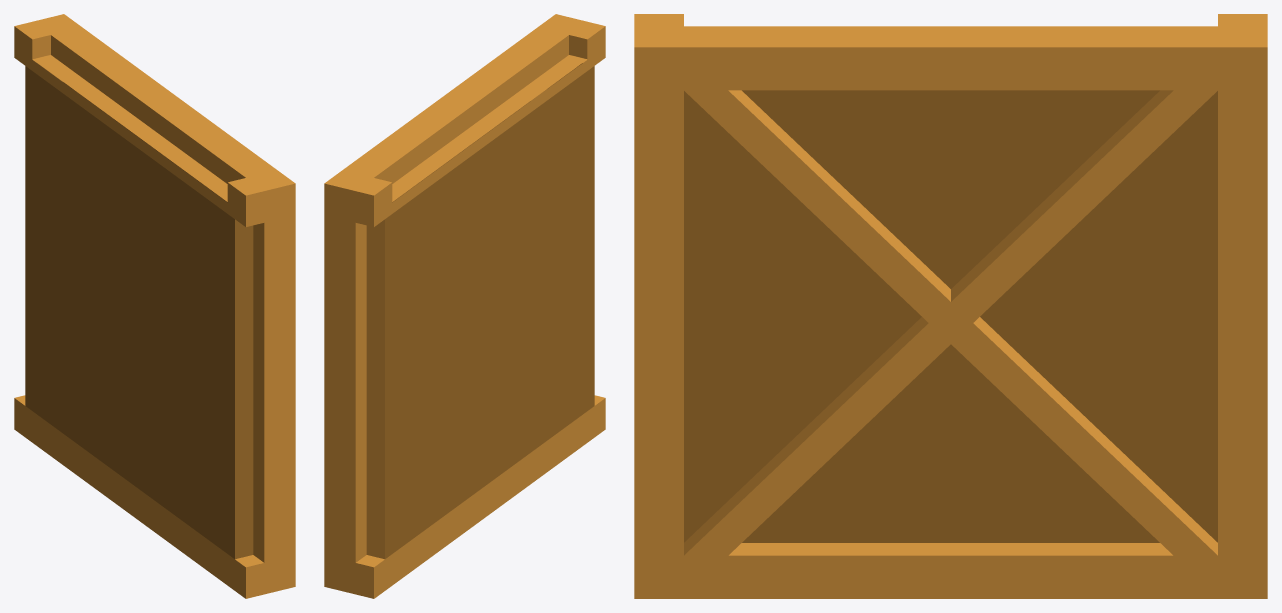
Rendered from Crate_open_Lid.fbx.
3 renders of one model, left to right at view 1: azimuth 30°, elevation 25°; view 2: azimuth 150°, elevation 25°; view 3: azimuth 270°, elevation 25°, orthographic. The views are drawn at different scales.
Parts seen in each view (by area): view 1: pCube51; view 2: pCube51; view 3: pCube51.
Boxes of the visible parts, left/top/right/bottom form: pCube51: left=14, top=14, right=295, bottom=598; pCube51: left=324, top=14, right=605, bottom=598; pCube51: left=634, top=14, right=1267, bottom=598.
Size of the model in its own units: 0.2484 by 1.92 by 2.
